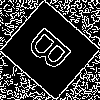B: (25, 25, 81, 80)
